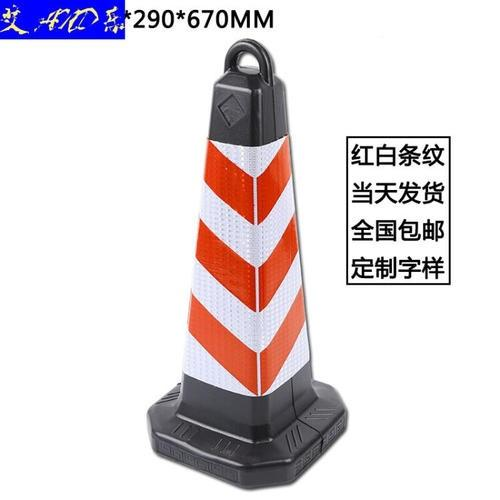cone_barrel: (150, 39, 349, 478)
